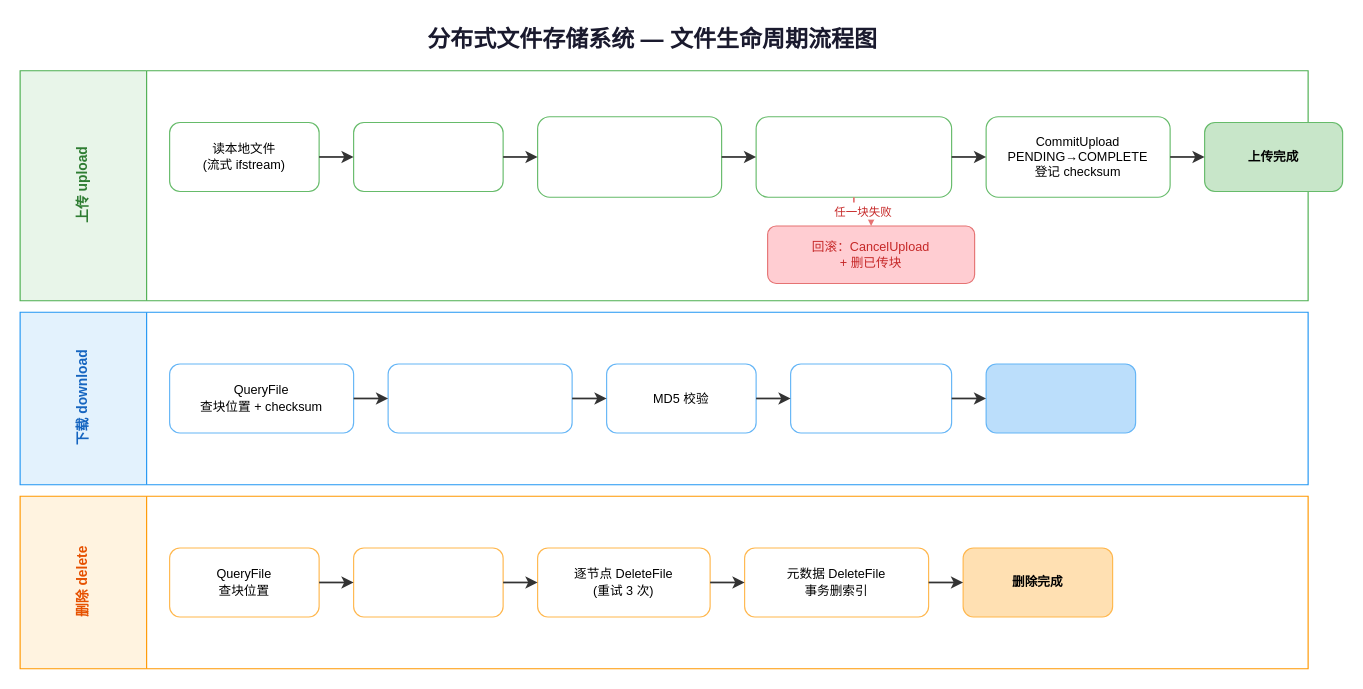
The diagram is 1363 pixels wide and 689 high, and some of its shapes have lost their labels. Here are the shapes that lost their labels. From the top down, the centre of each, then its label:
the point at 427,156: 按 1024B 分块
the point at 629,156: UploadFile 登记 PENDING + 查重
the point at 853,156: 逐块 PutChunk 直连 + 重试 3 次 返回 checksum
the point at 479,398: 逐块 GetChunk 直连 + 重试
the point at 870,398: 流式写回 downloads/
the point at 1060,398: 下载完成
the point at 427,582: 去重收集 存储节点
